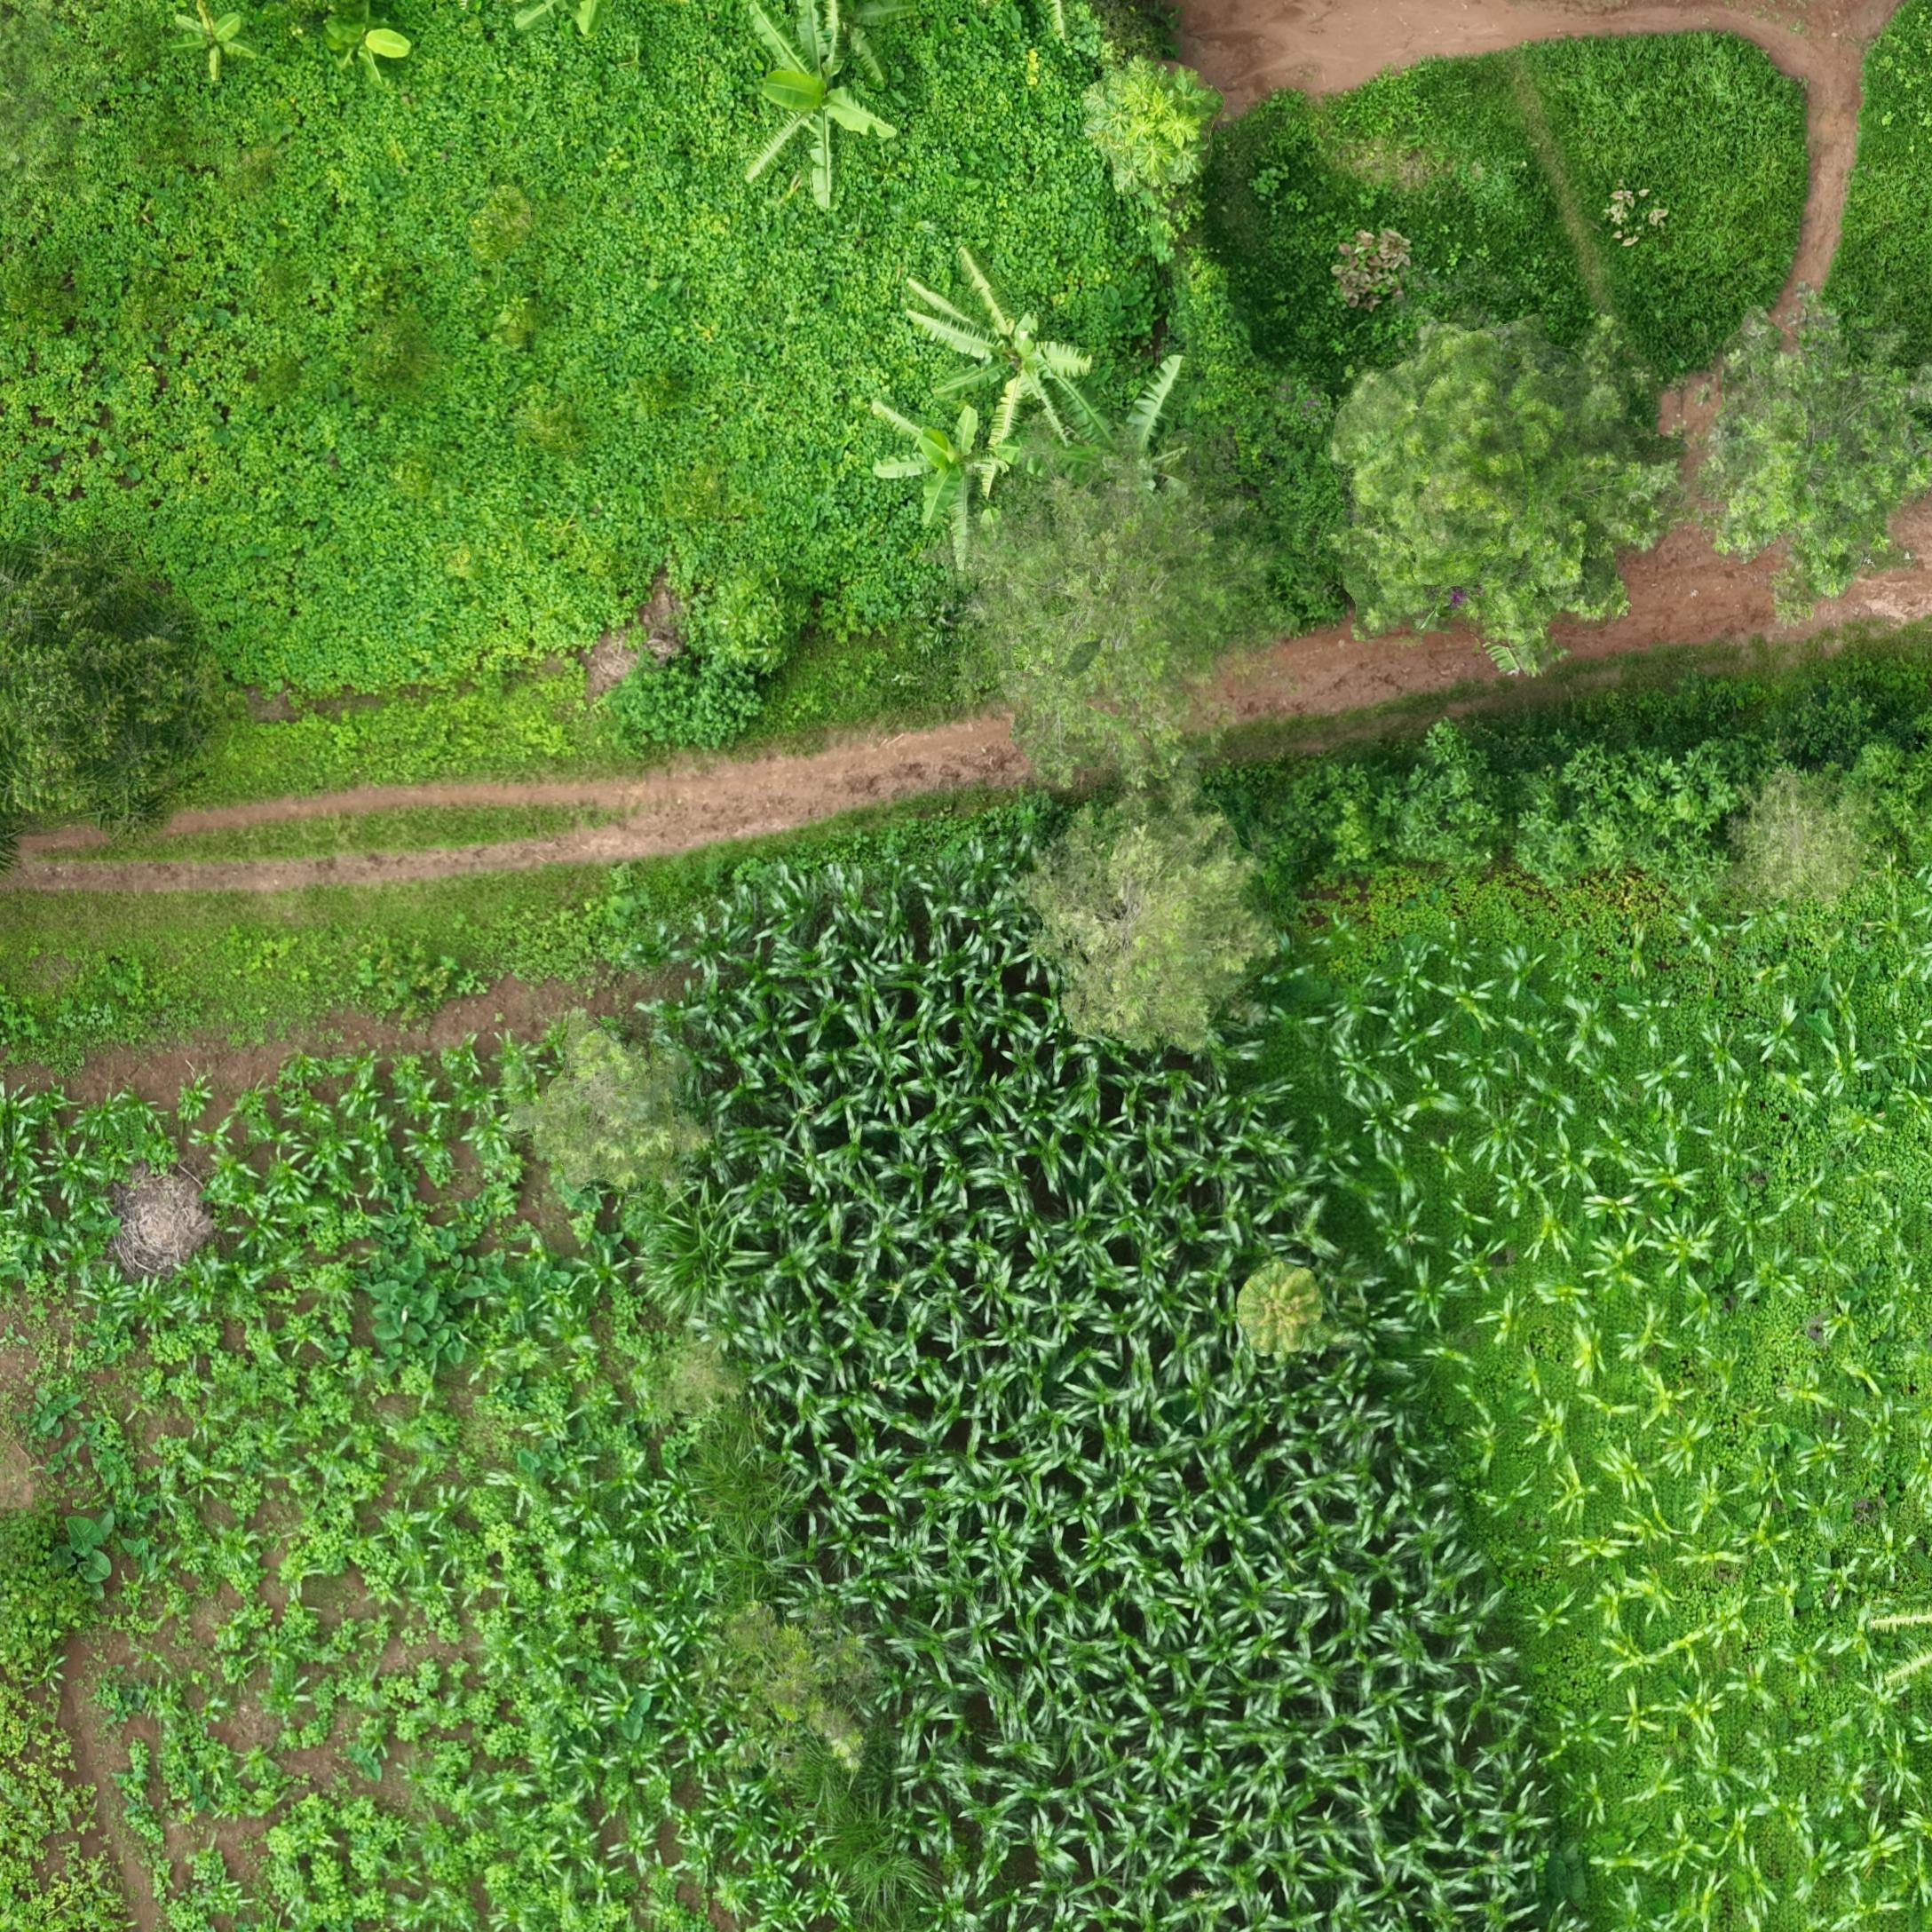Banana: (729, 12, 994, 221), (1111, 352, 1320, 550), (932, 260, 1132, 464), (895, 407, 1095, 587), (320, 2, 472, 122), (157, 9, 306, 104), (522, 2, 658, 83)
